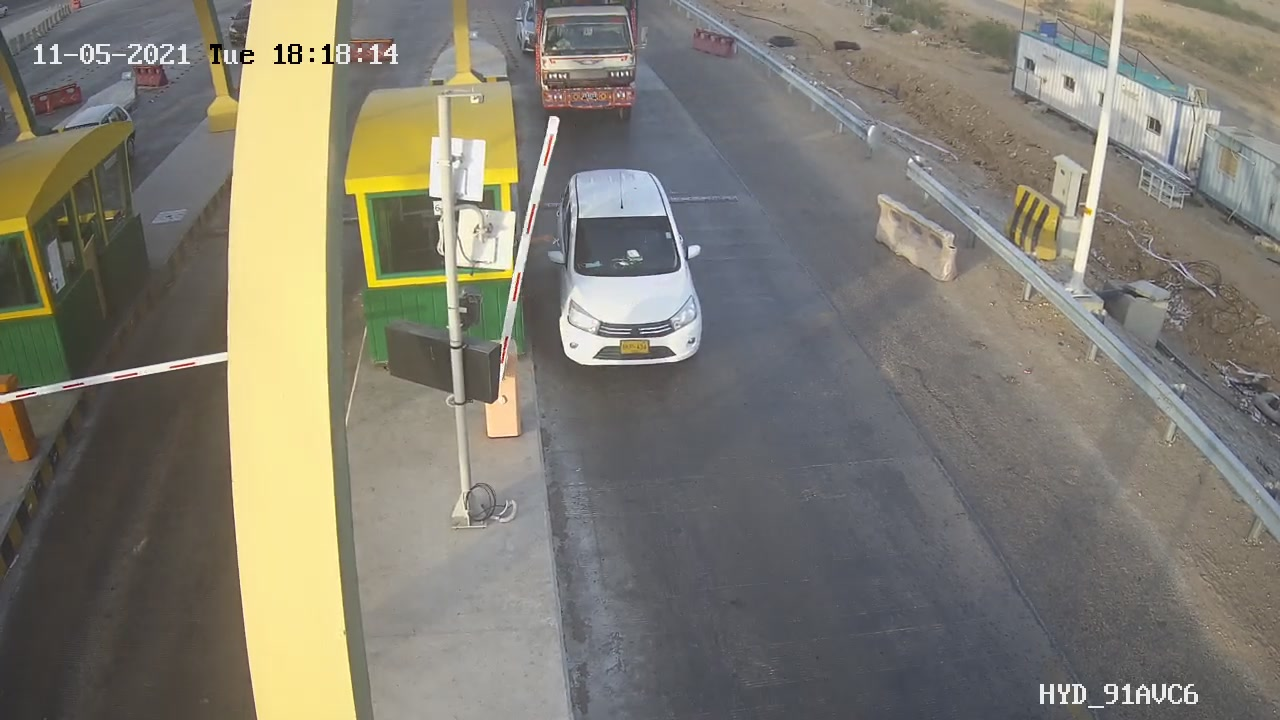F1: (542, 162, 722, 379)
